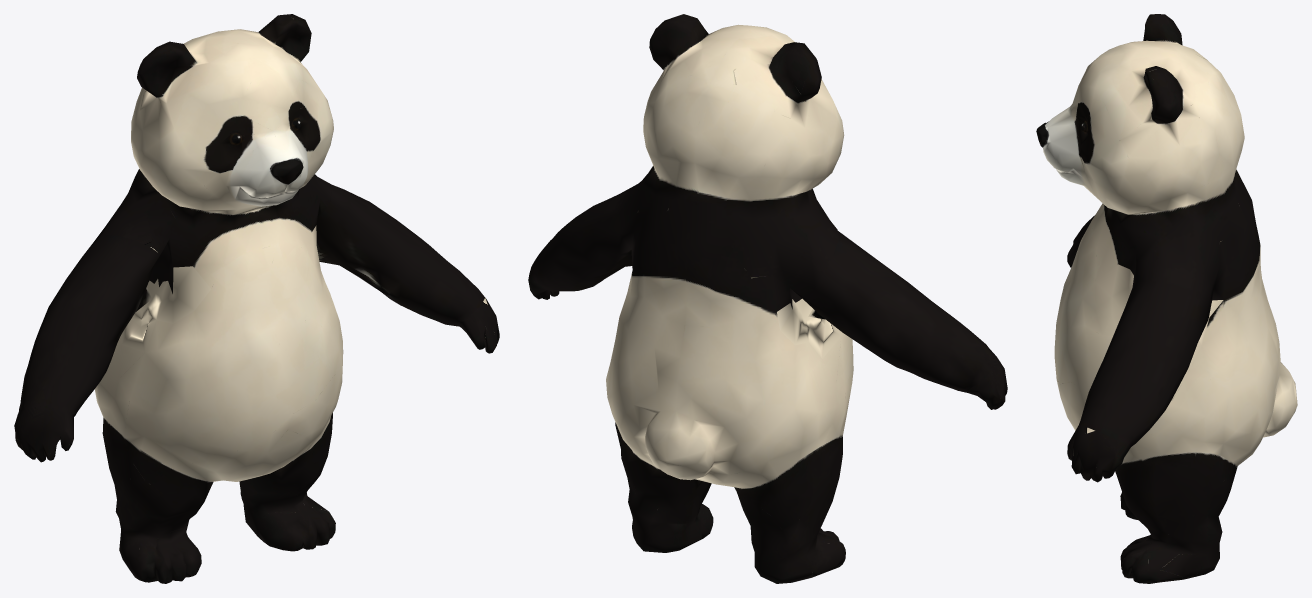
Rendered from panda-arms.glb.
3 renders of one model, left to right at view 1: azimuth 30°, elevation 25°; view 2: azimuth 150°, elevation 25°; view 3: azimuth 270°, elevation 25°, orthographic. The views are drawn at different scales.
Visible parts, largest first — view 1: panda; view 2: panda; view 3: panda.
Boxes of the visible parts, <box> form: panda: <box>14,14,499,583</box>; panda: <box>528,14,1007,583</box>; panda: <box>1036,14,1297,583</box>.
Bounding box in the file's own units: 1.8 × 1.9 × 0.9036.
Materials: 1 (1 with a texture image).
